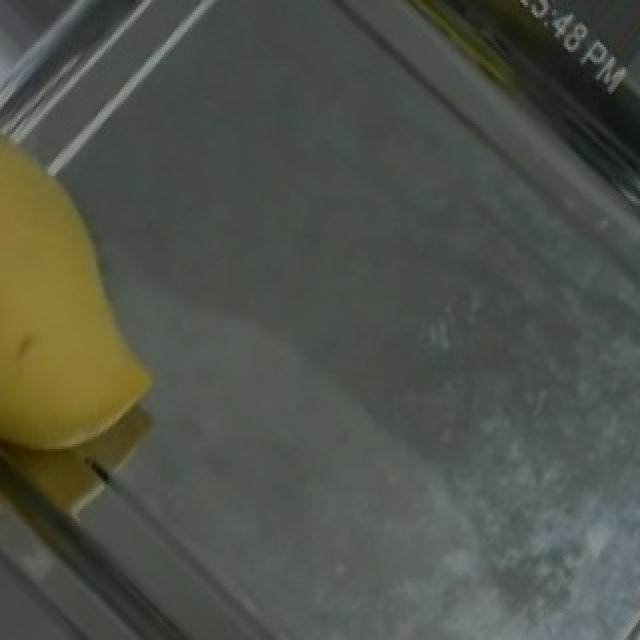fruit: (0, 104, 210, 494)
